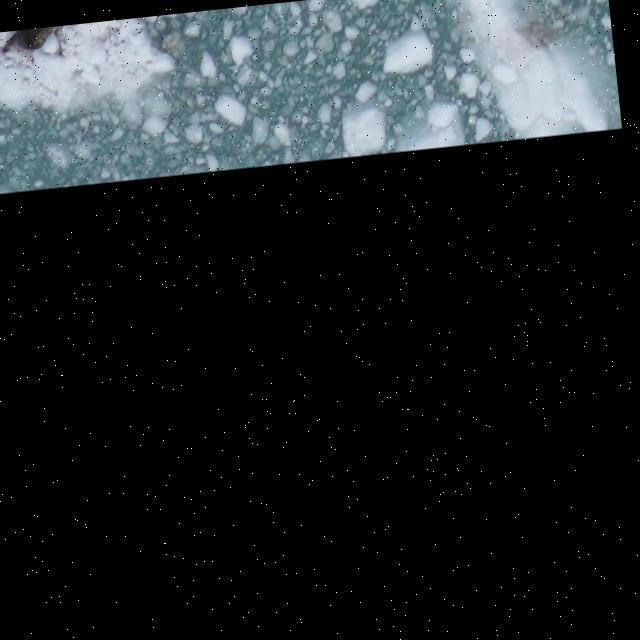seal: (0, 26, 67, 60)
